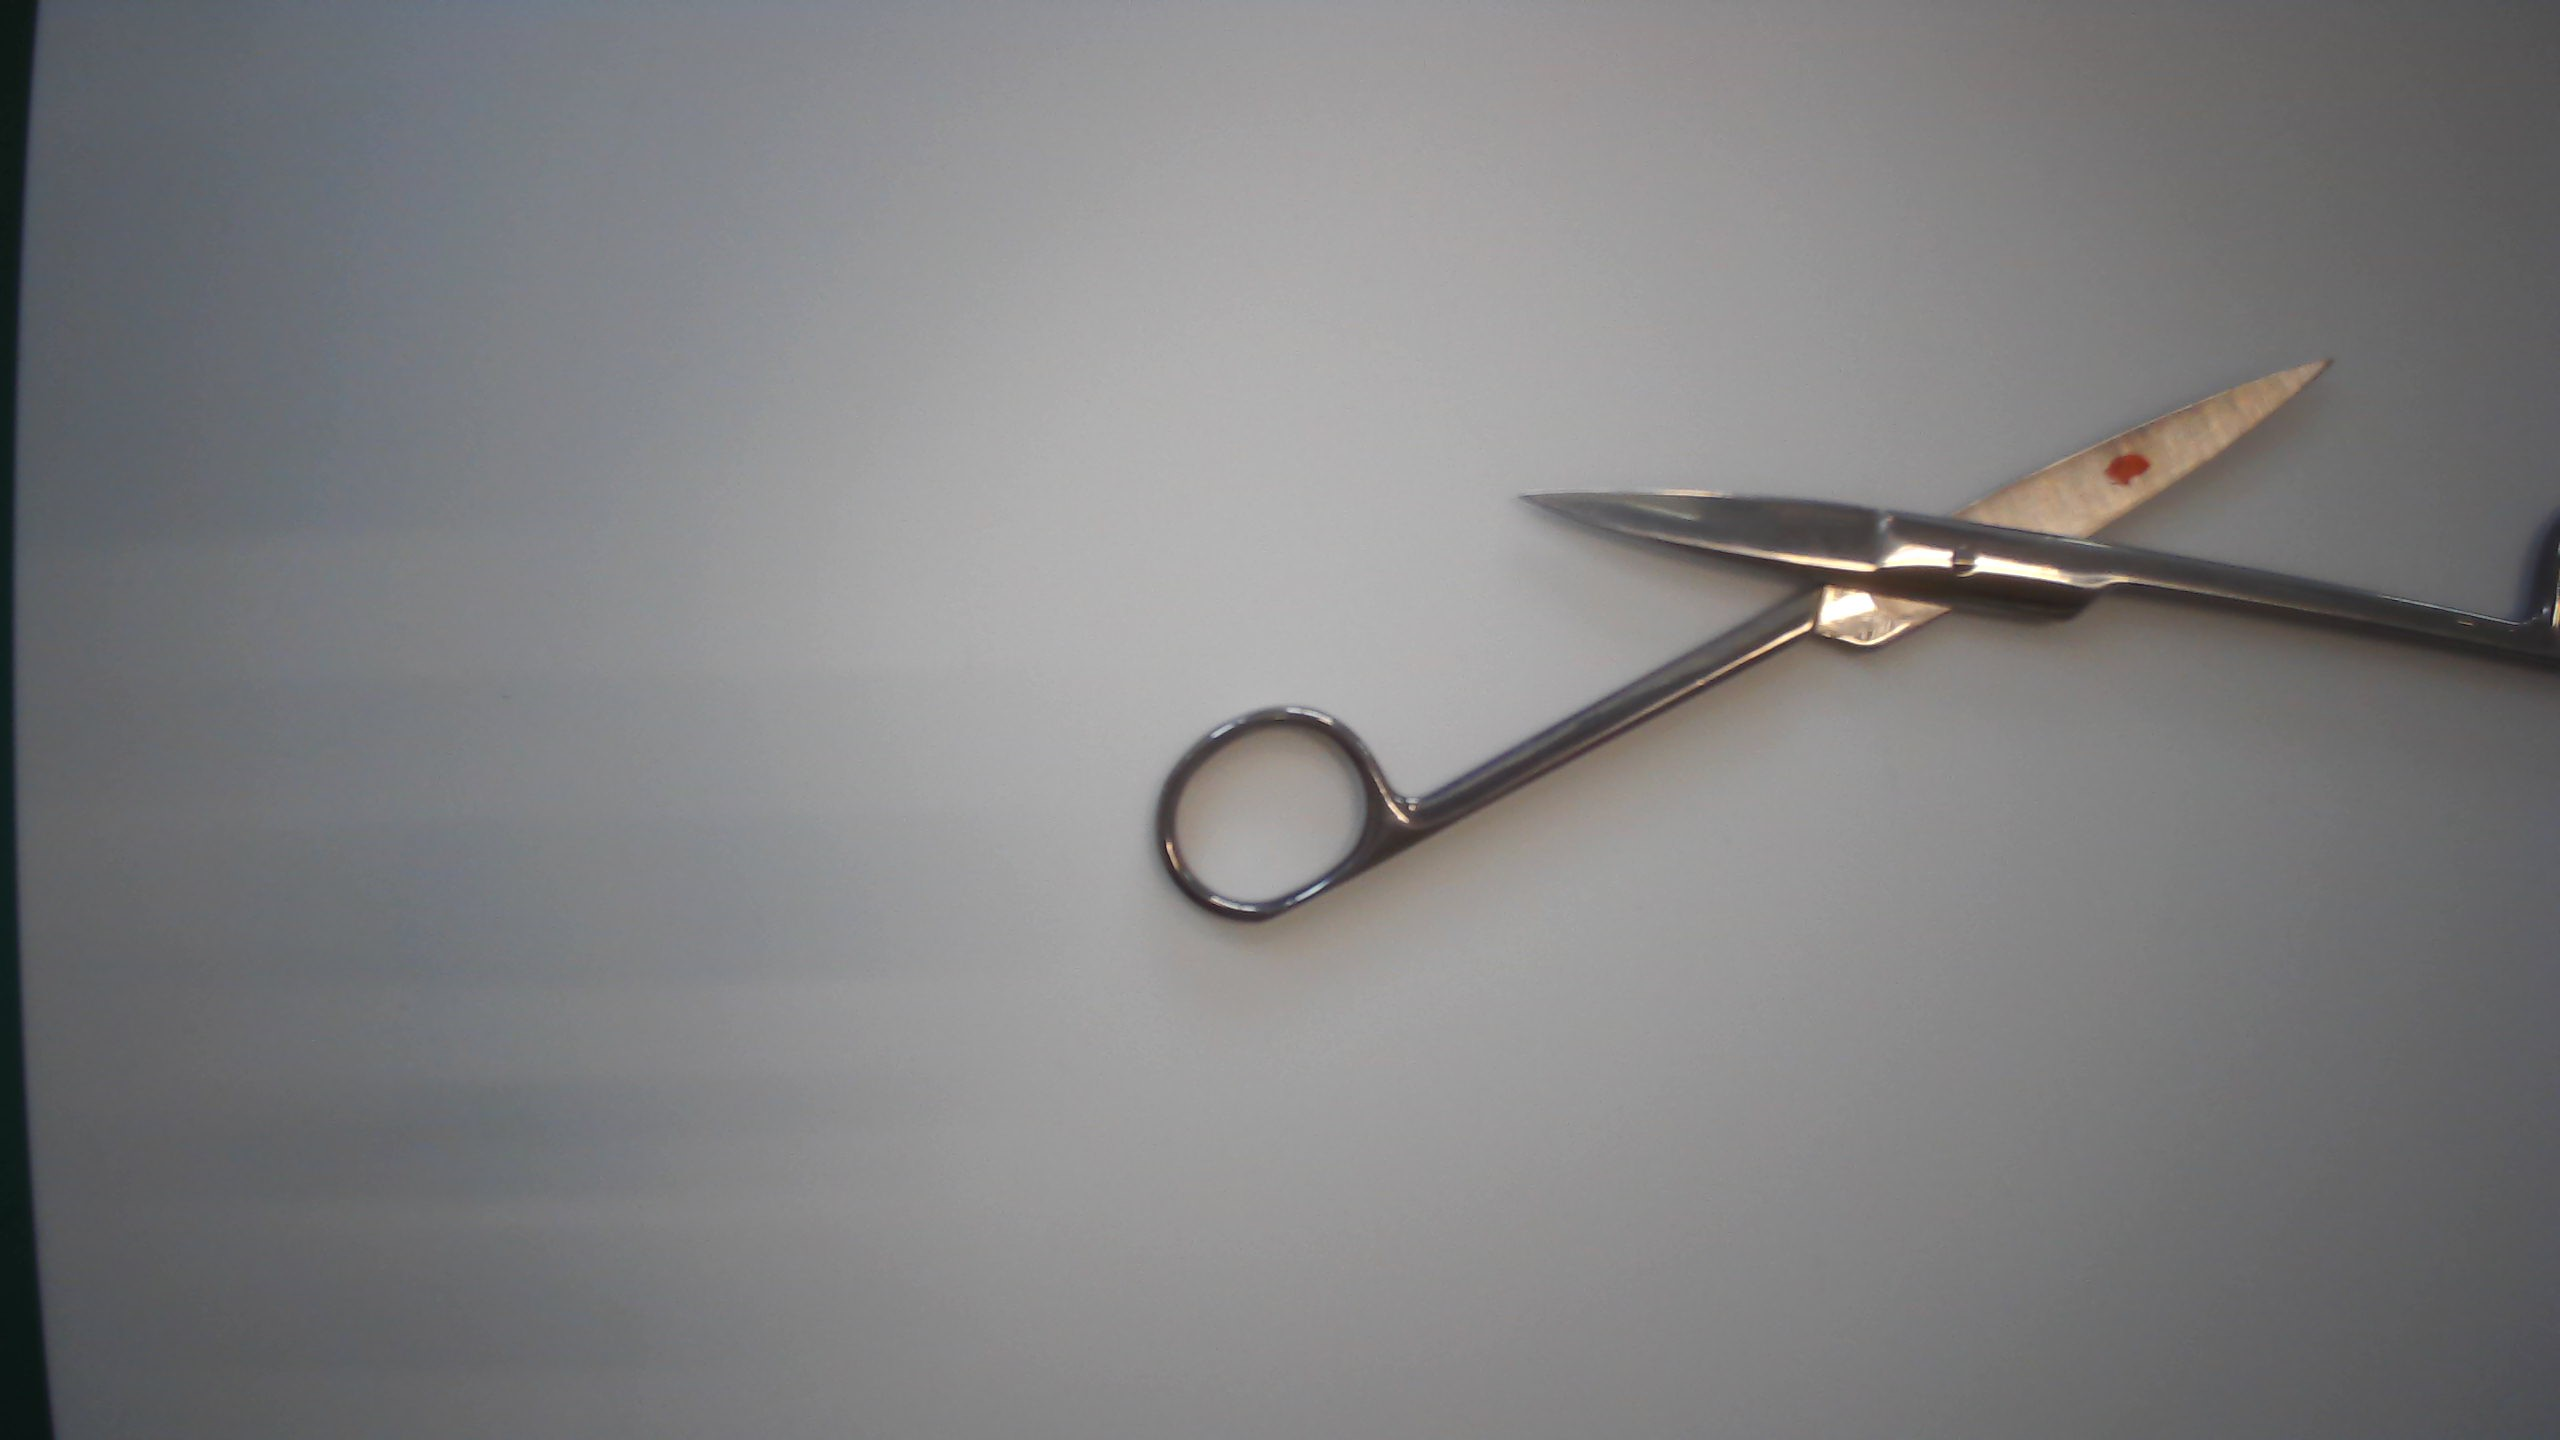Stain: (2101, 445, 2163, 499)
